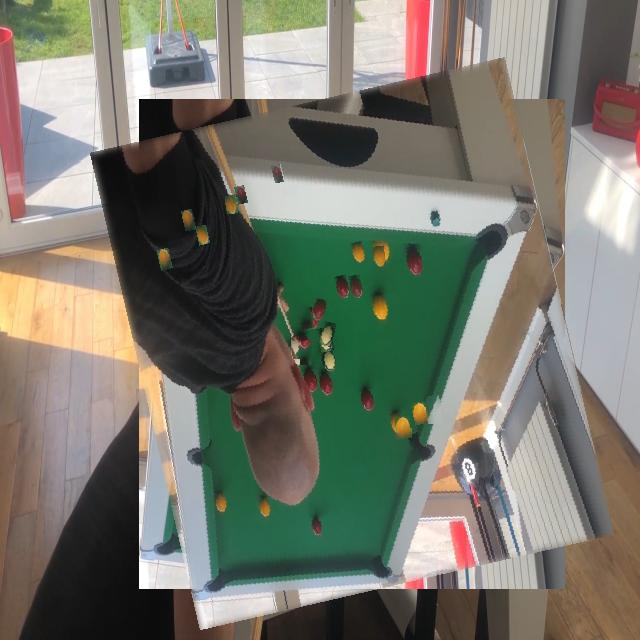Ball: (425, 396, 442, 424), (381, 360, 398, 388), (297, 304, 313, 330), (396, 416, 412, 439), (320, 322, 335, 346), (311, 299, 327, 321), (349, 275, 363, 298), (182, 208, 196, 230), (300, 340, 312, 365), (372, 246, 386, 267), (225, 195, 238, 214), (292, 336, 302, 359), (272, 165, 284, 183)
Billiard table: (115, 78, 590, 610)
